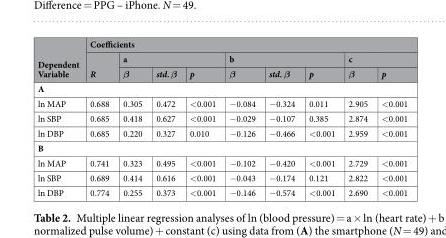table: (36, 37, 407, 198)
table column: (36, 37, 83, 198), (221, 37, 261, 198), (261, 37, 301, 198), (301, 37, 341, 198), (182, 37, 221, 198), (148, 37, 182, 198), (373, 37, 407, 198), (115, 37, 148, 198), (83, 37, 115, 198), (341, 37, 373, 198)
table column header: (36, 37, 407, 80)
table projected row header: (36, 80, 407, 95), (36, 140, 407, 155)
table row: (36, 50, 407, 65), (36, 65, 407, 80), (36, 80, 407, 95), (36, 95, 407, 110), (36, 110, 407, 125), (36, 125, 407, 140), (36, 140, 407, 155), (36, 155, 407, 170), (36, 170, 407, 184), (36, 184, 407, 198), (36, 37, 407, 50)
table spanning cell: (83, 37, 407, 50), (36, 37, 83, 80), (221, 50, 341, 65), (115, 50, 221, 65), (341, 50, 407, 65), (83, 50, 115, 80)
